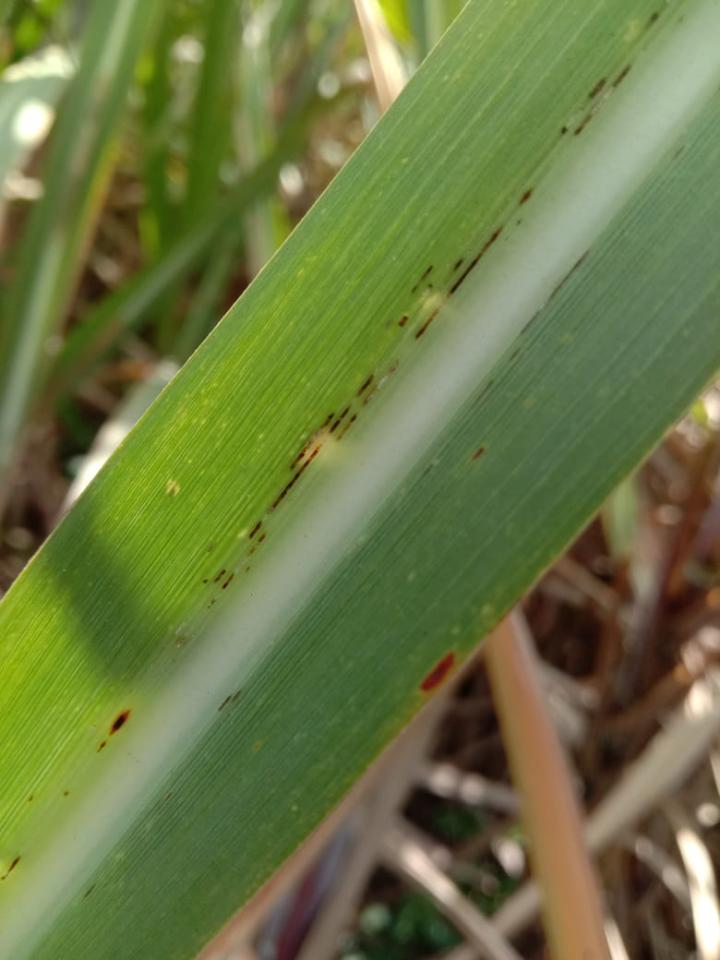Rust: (446, 224, 503, 300), (267, 444, 322, 513), (290, 412, 334, 469), (548, 248, 591, 297), (419, 652, 454, 692), (363, 375, 388, 407), (415, 309, 440, 341), (109, 709, 132, 737), (329, 408, 349, 435), (519, 310, 540, 335), (0, 856, 21, 881), (337, 415, 357, 441), (613, 64, 632, 88), (573, 114, 593, 136), (358, 373, 375, 396), (589, 77, 605, 99), (216, 693, 232, 713), (249, 519, 262, 539), (221, 572, 234, 591), (420, 265, 434, 282), (519, 189, 532, 206), (508, 346, 521, 362), (213, 570, 227, 584), (83, 884, 95, 899), (472, 447, 485, 460), (388, 359, 399, 373), (96, 741, 107, 753), (453, 259, 463, 271), (231, 690, 241, 702), (207, 598, 217, 609), (398, 316, 408, 327), (649, 12, 659, 22), (258, 532, 266, 543), (561, 124, 569, 134), (249, 546, 256, 555), (411, 285, 418, 294), (244, 566, 251, 574), (676, 16, 683, 23), (63, 790, 69, 797), (28, 795, 34, 802), (516, 220, 522, 226), (202, 579, 209, 584), (427, 284, 434, 288)
